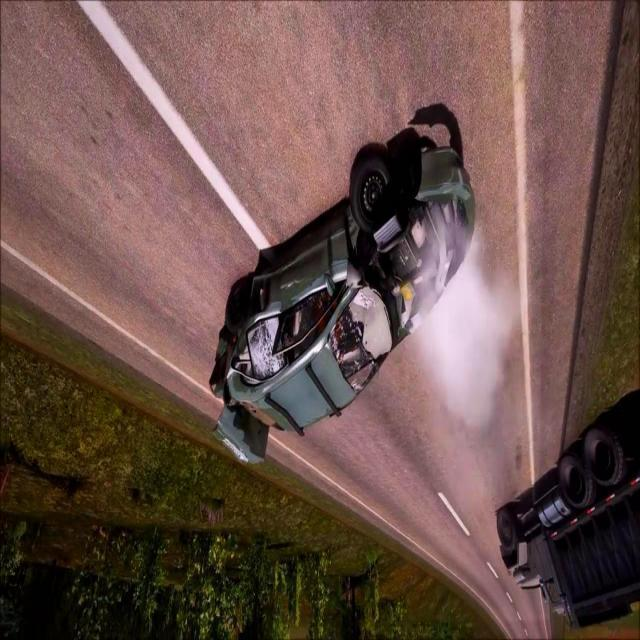severe: (206, 138, 480, 472)
